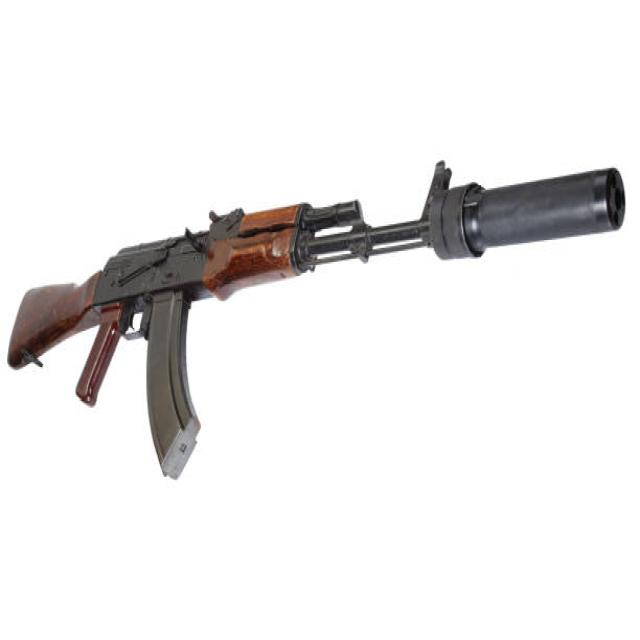rifle: (6, 150, 628, 493)
